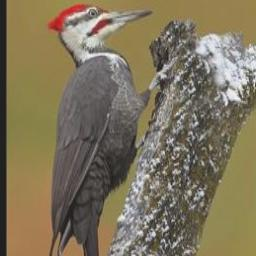Woodpecker: (45, 3, 177, 256)
